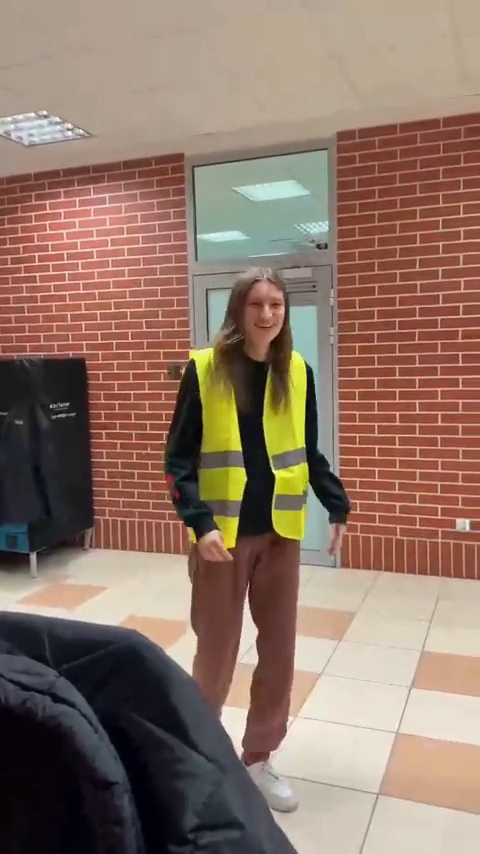vest: (168, 273, 347, 818)
